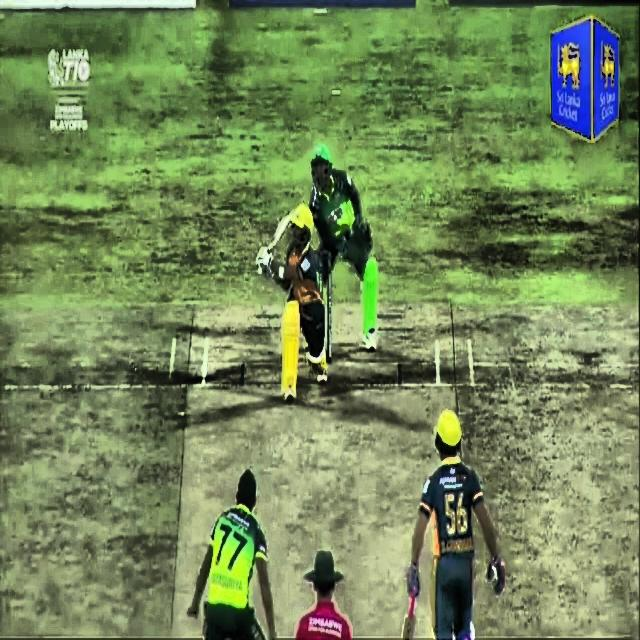Middle-stump: (320, 262, 323, 298)
Right-stump: (328, 260, 331, 362)
